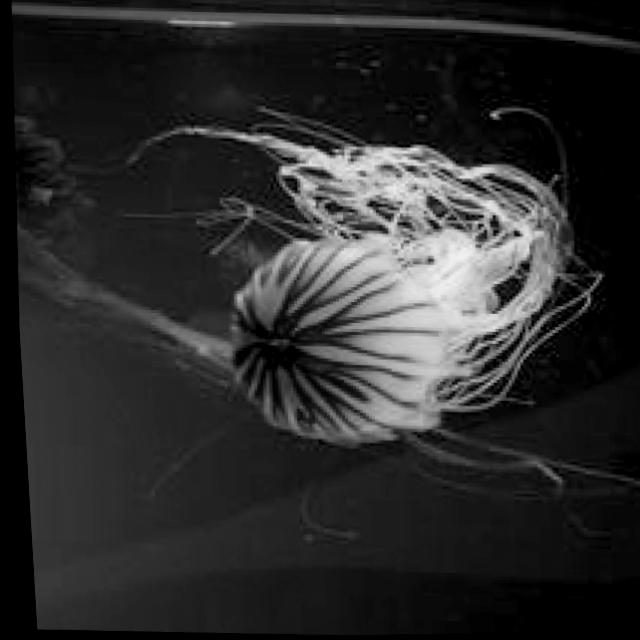Box-jellyfish: (4, 80, 640, 531)
